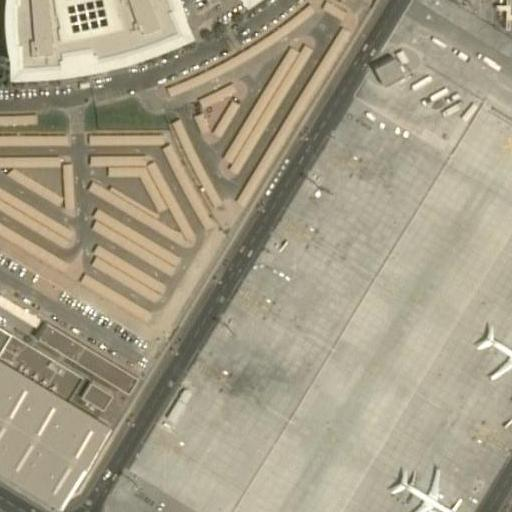Aircraft: (391, 463, 466, 512), (470, 318, 512, 381)
